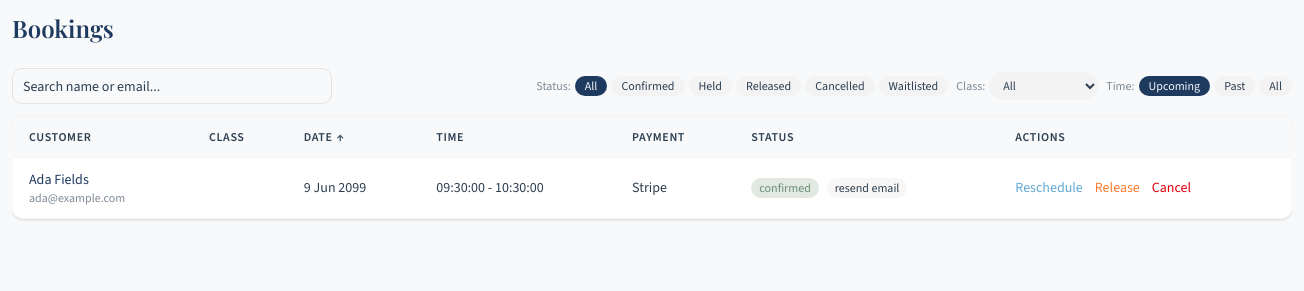
Test: /admin/bookings › says why the server refused a cancellation
Check: the text "Ada Fields" is shown, box [29, 170, 89, 189]
What coordinates should you click on to do the following:
click the button "Cancel"
I would click on:
 (1171, 188)
Its box is [1152, 178, 1191, 198].
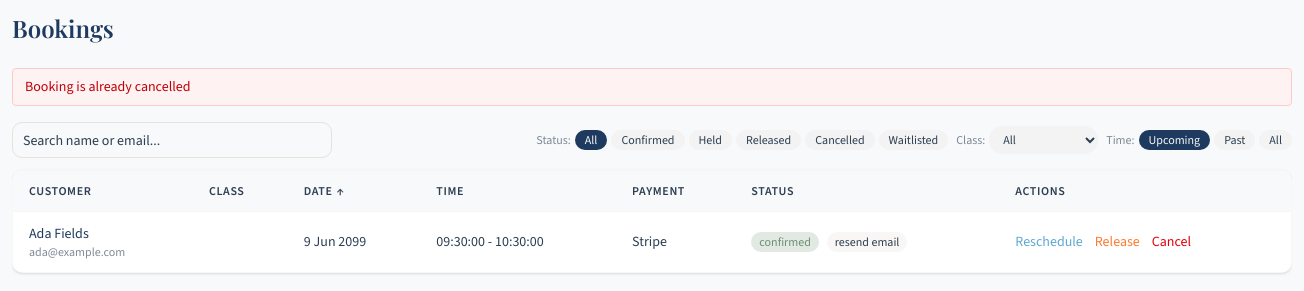
Check: the message reads "Booking is already cancelled", box [25, 77, 190, 96]
